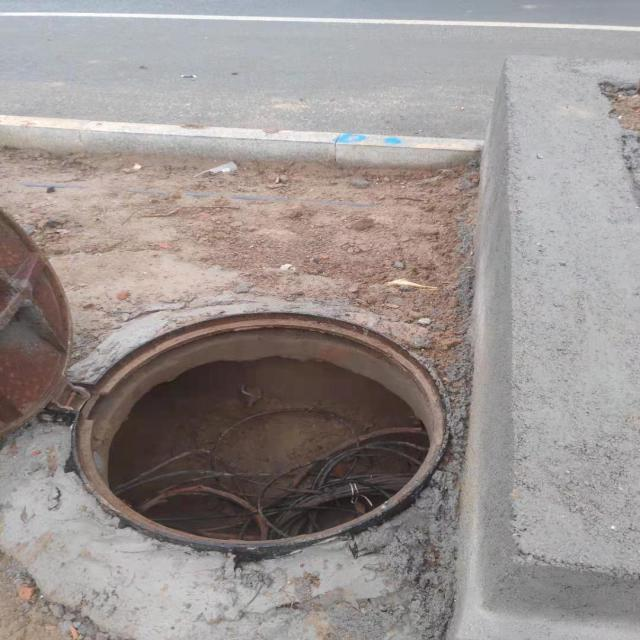Faulty: (0, 210, 449, 549)
